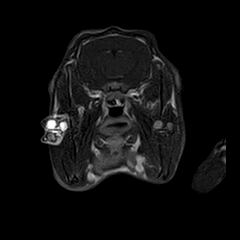Brain: (65, 6, 164, 104)
